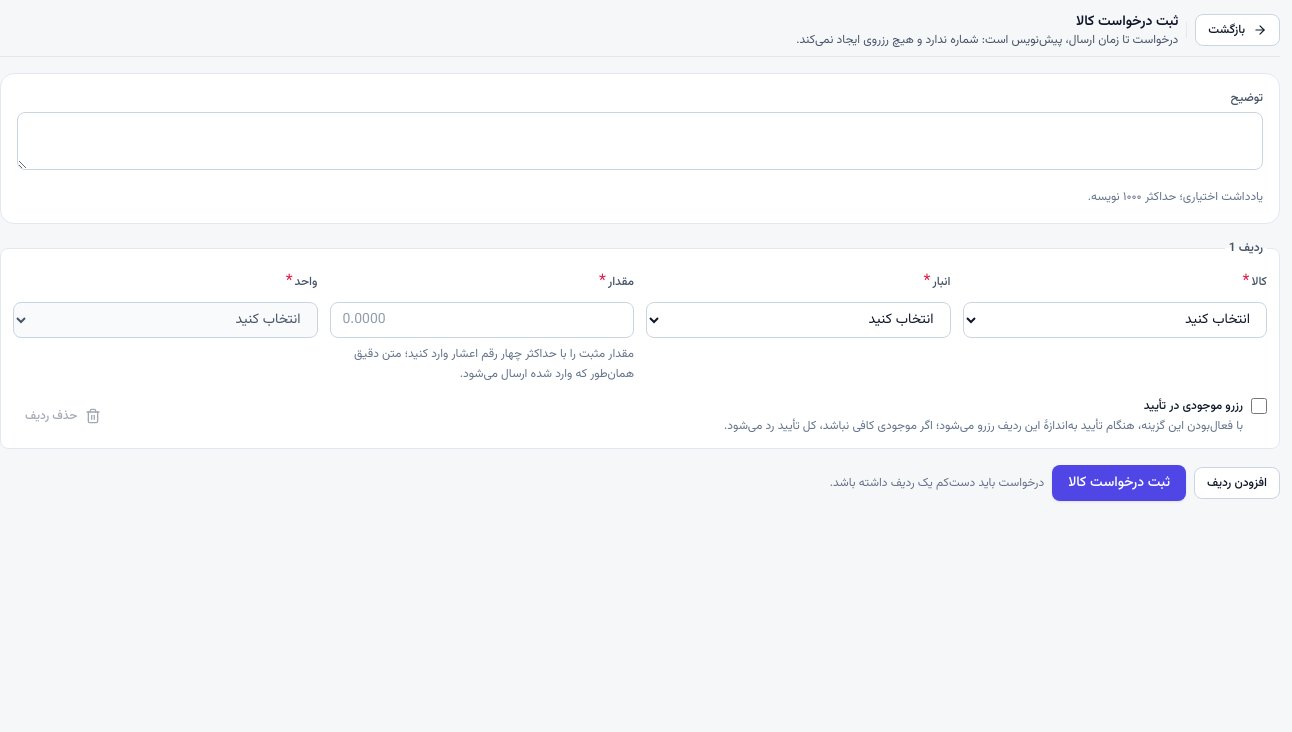
Test: material request create form › posts the exact decimal quantity string and lines without any status field
In the text box labelled "توضیح": (640, 141) [17,112,1263,170], type "خط تولید"
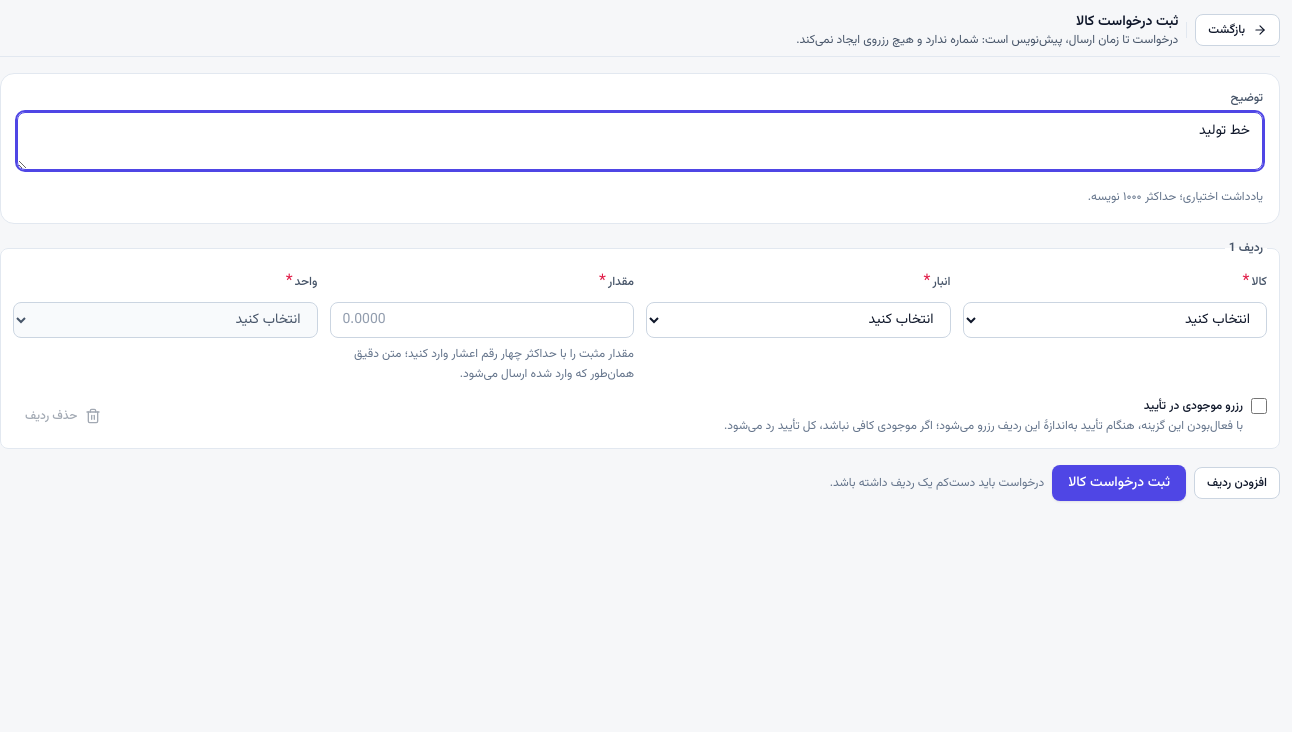
Select "KAL-01 — کالای نمونه" in the dropdown labelled "کالا": (1115, 320) [962,302,1267,338]
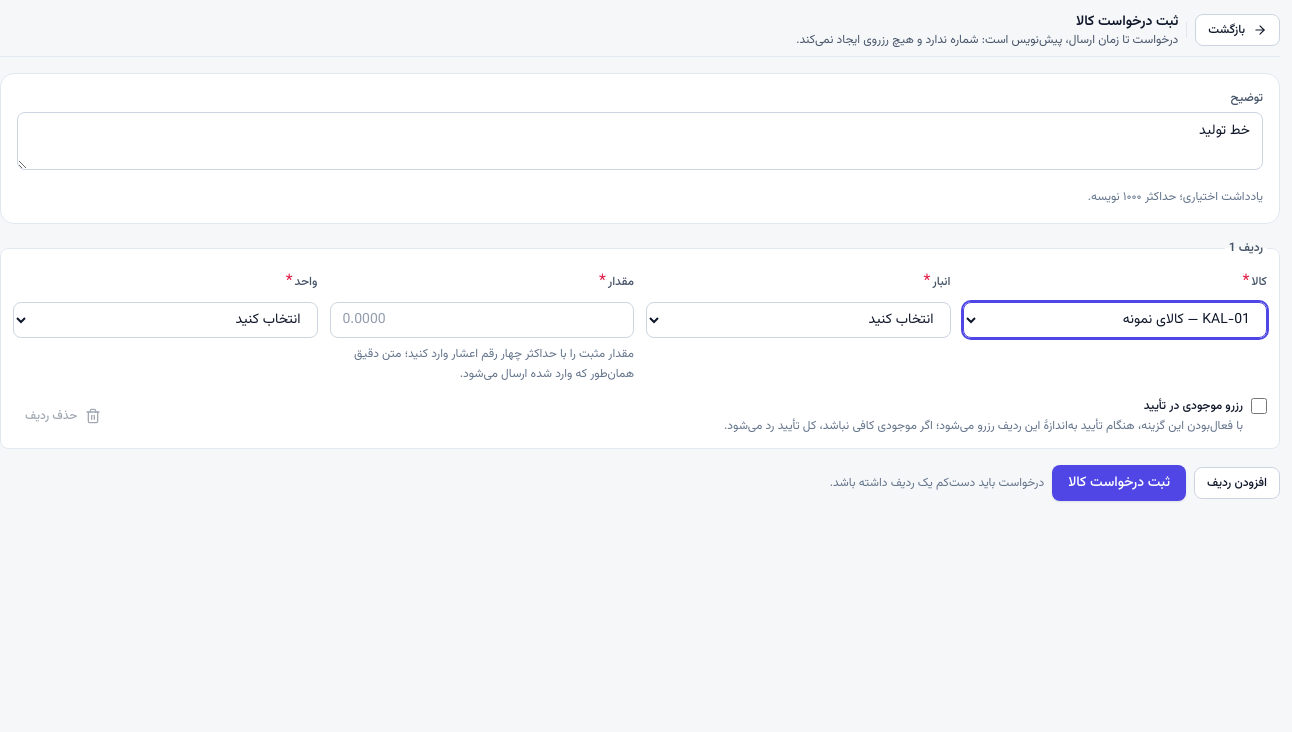
Select "WH-01 — انبار مرکزی" in the dropdown labelled "انبار": (798, 320) [646,302,950,338]
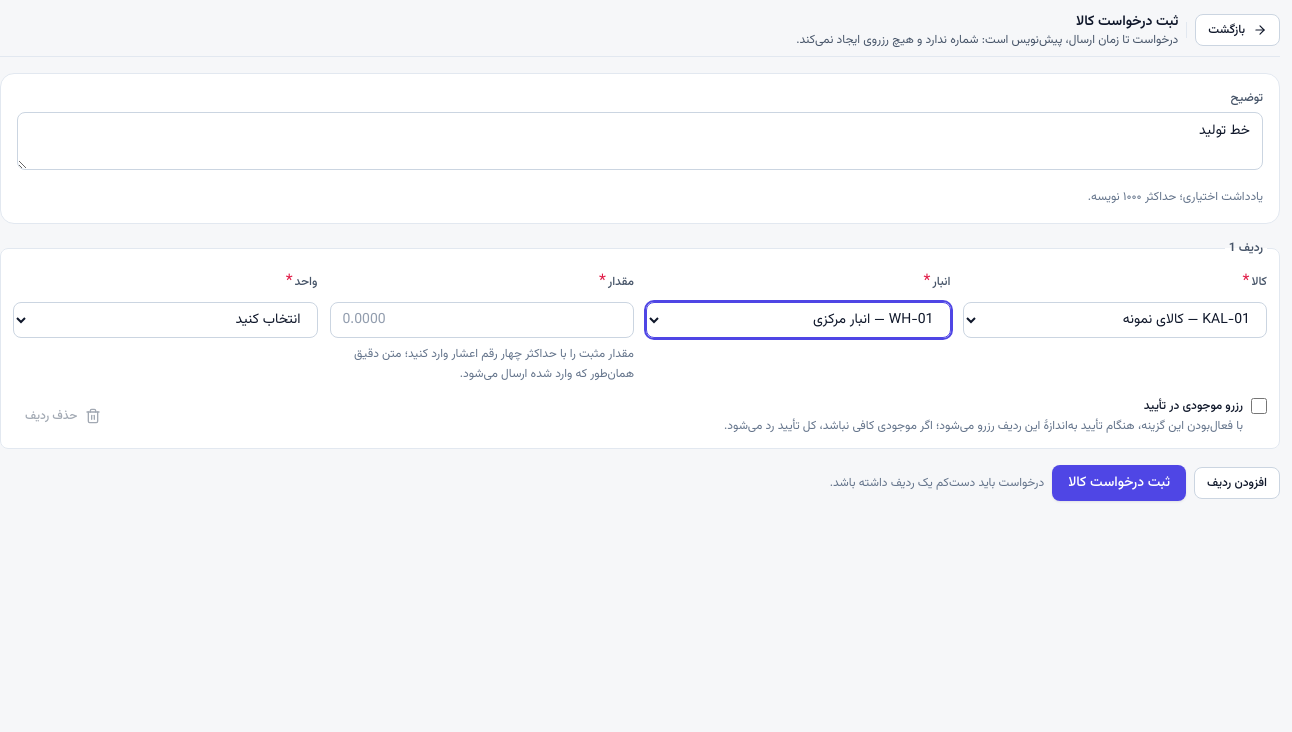
In the field labelled "مقدار": (482, 320) [330,302,634,338], type "5.0000"
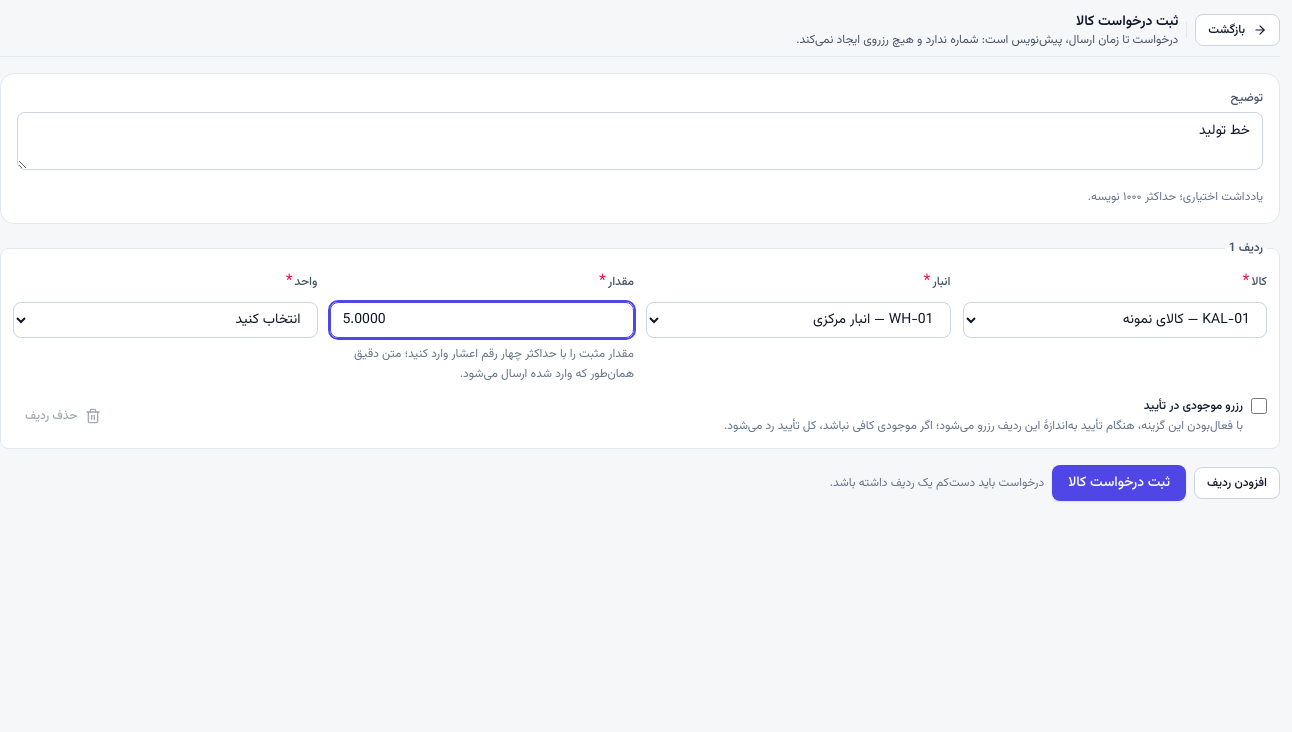
Click the button "ثبت درخواست کالا": (1119, 483) [1052,465,1186,501]
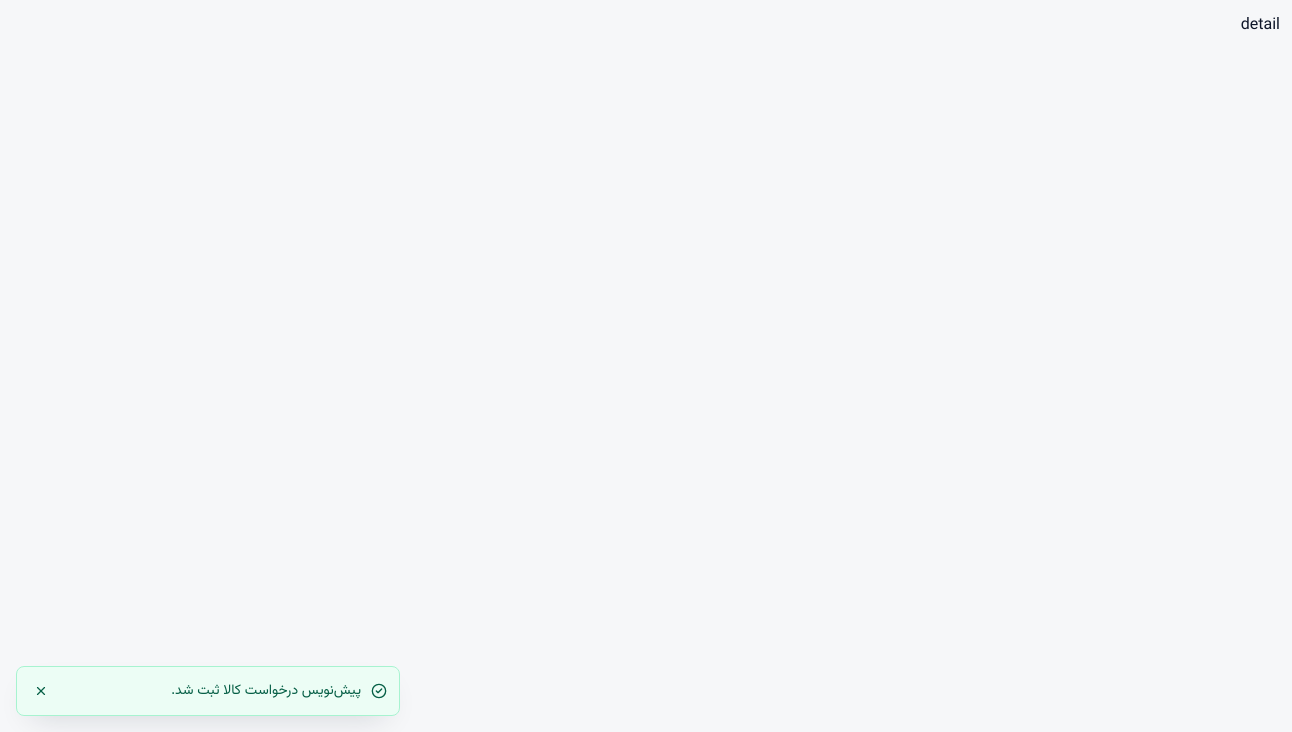
Expected: the text "پیش‌نویس درخواست کالا ثبت شد." is shown, [171,680,361,702]
